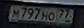license-plateSW: (8, 5, 74, 24)
